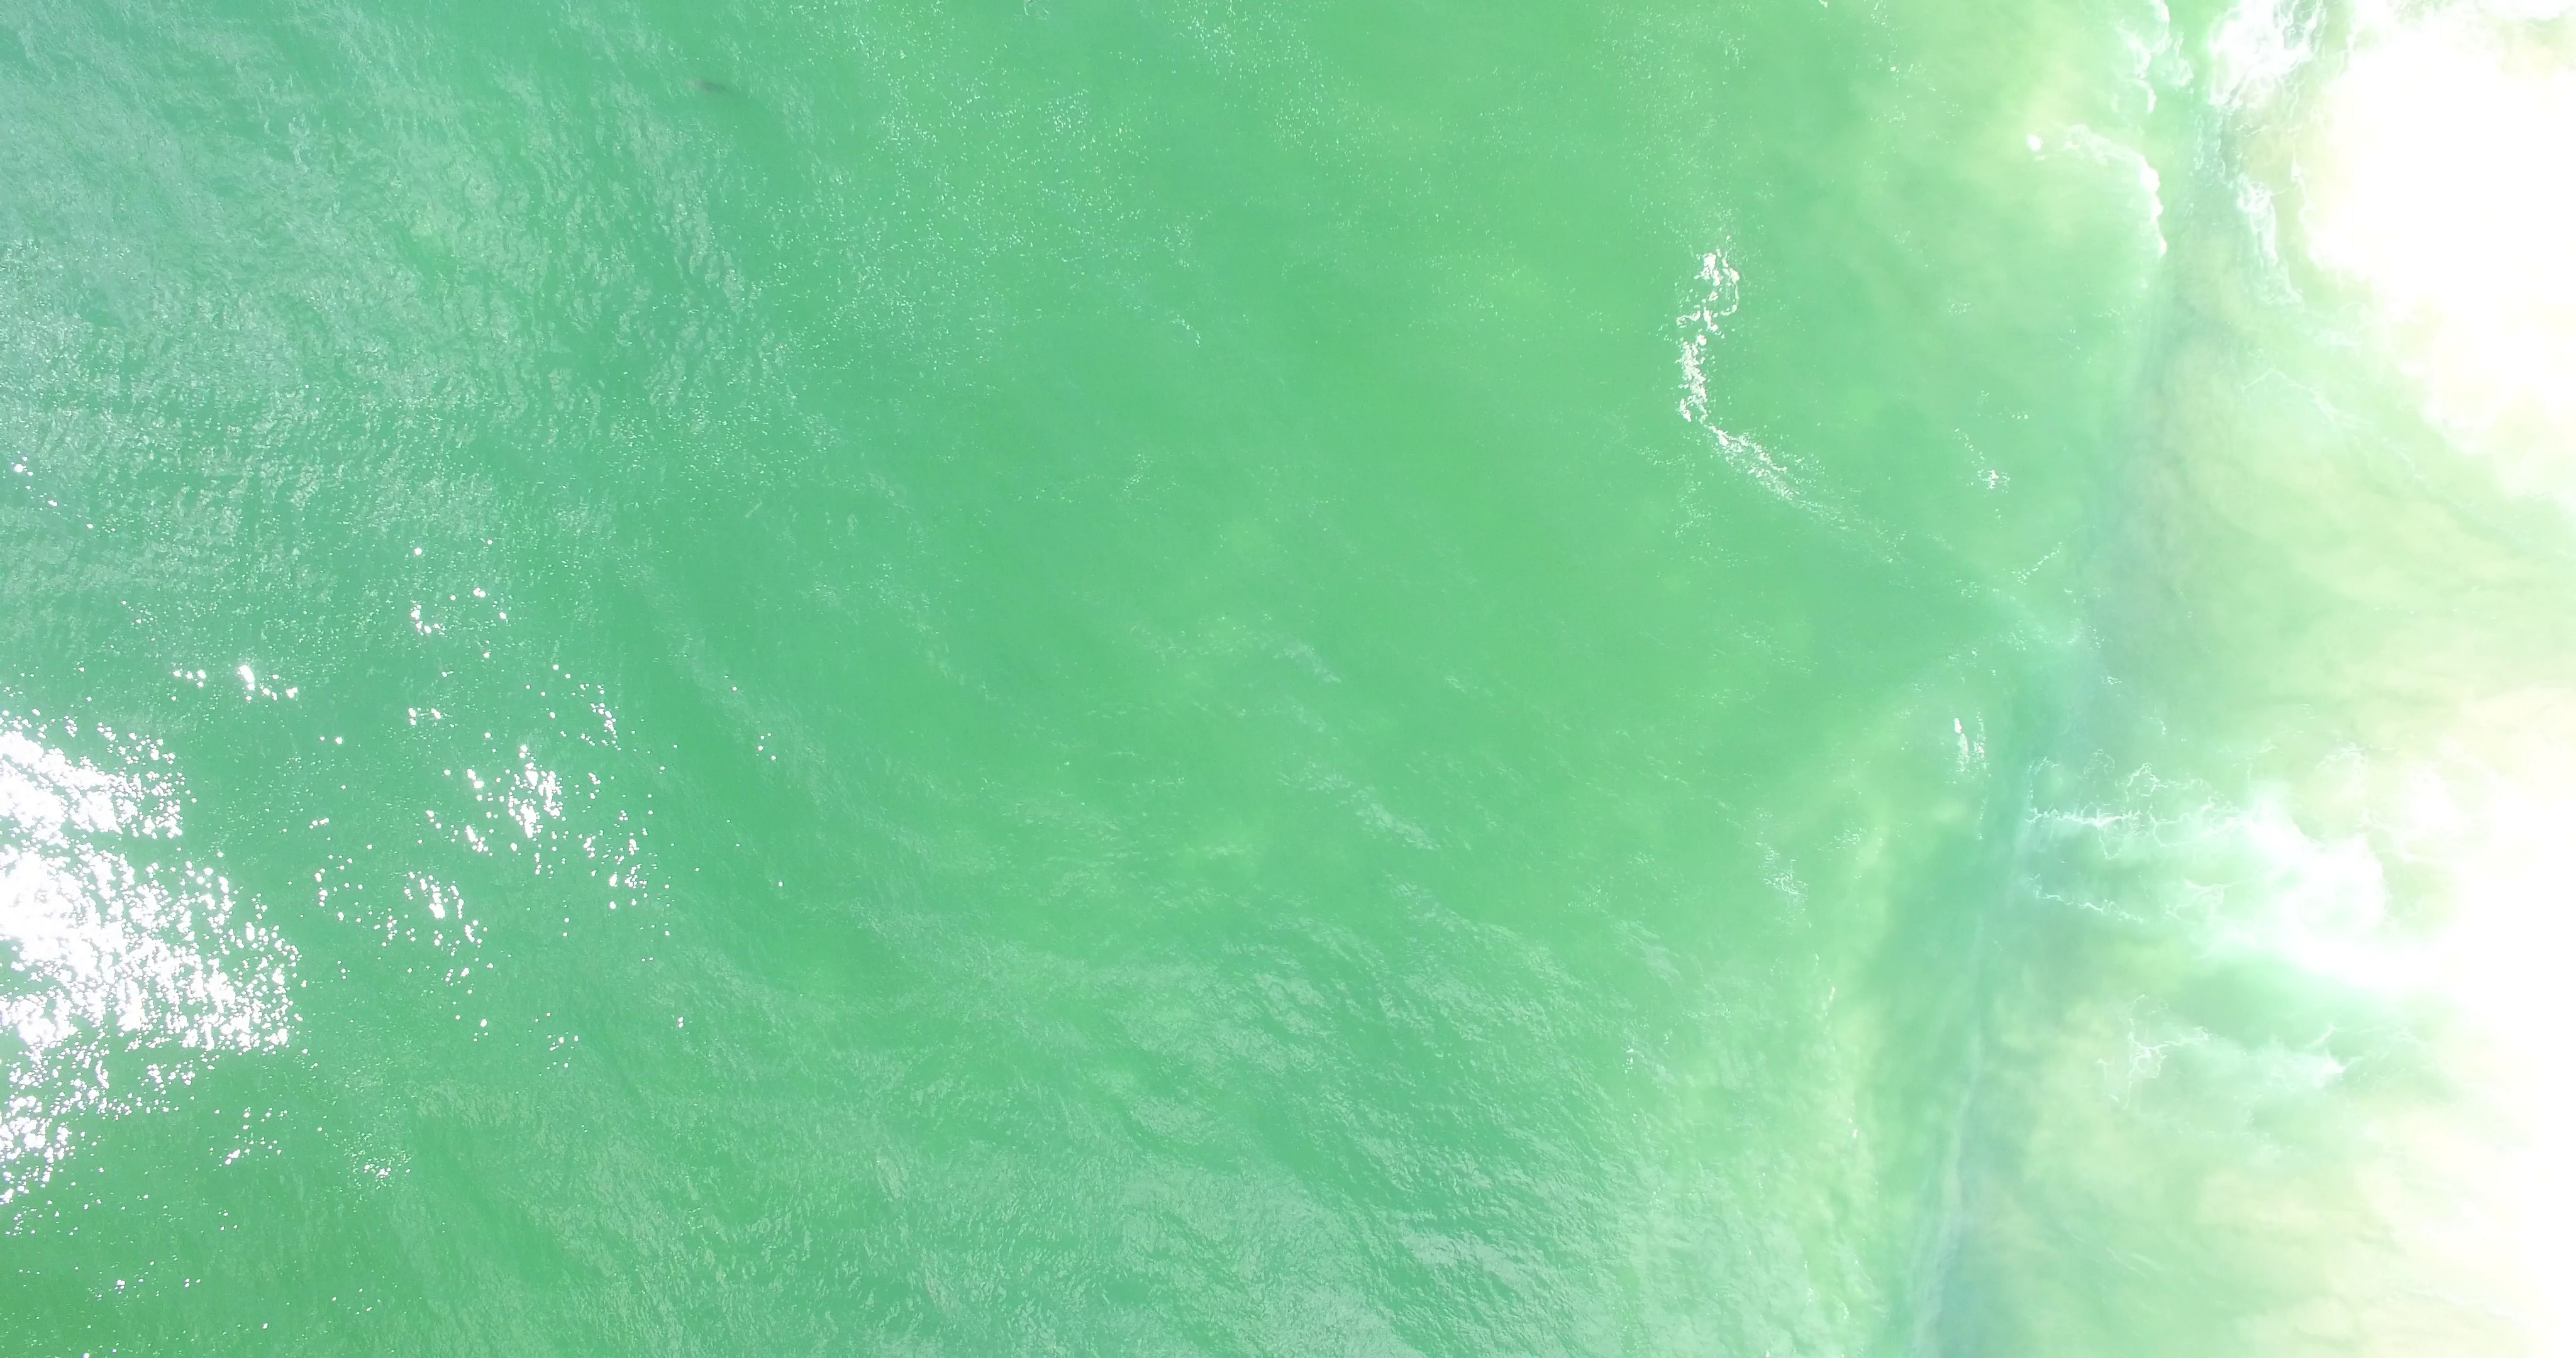dolphin: (685, 70, 734, 97)
